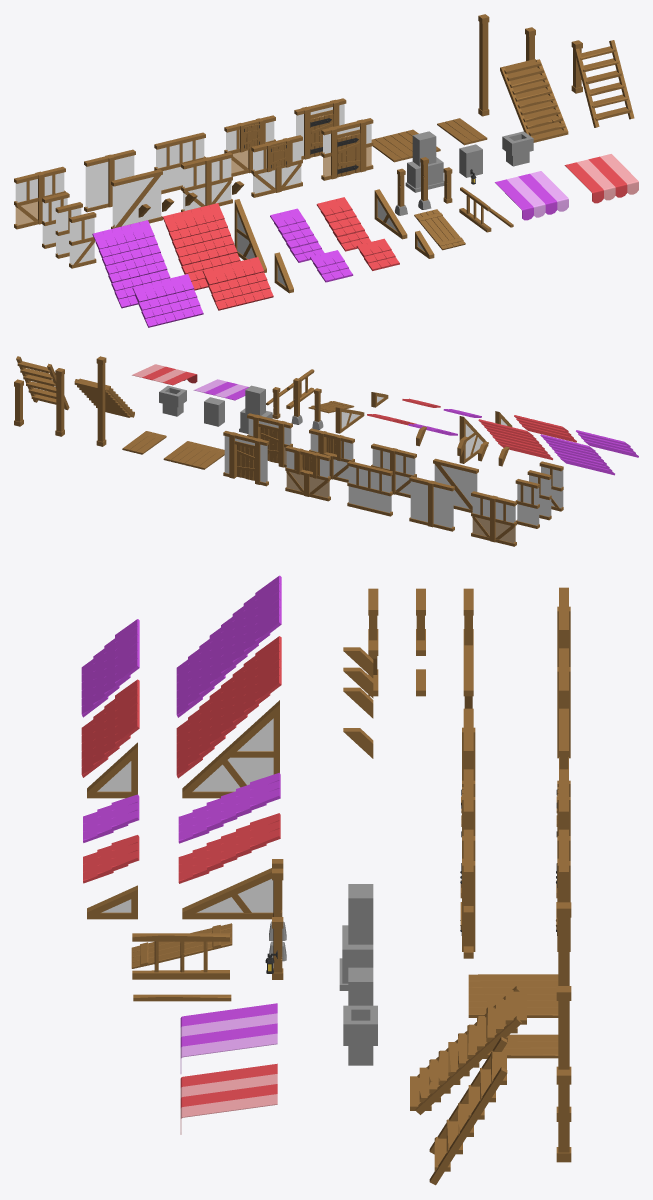
The model's file is Low Poly Medieval House Asset Pack 1.fbx.
The picture shows the model from 3 angles, top to bottom: view 1: azimuth 30°, elevation 25°; view 2: azimuth 150°, elevation 25°; view 3: azimuth 270°, elevation 25°; orthographic projection. The views are drawn at different scales.
Parts seen in each view (by area): view 1: Roof_Shingles_Large_Wide1, Roof_Shingles_Large_Wide, Stairs_1, Roof_Shingles_Small_Wide1, Roof_Shingles_Small_Wide, Wall_4, Wall_5, Stairs_2, Wall_Window_2, Cloth_Roof, Cloth_Roof1, Wall_1 (+24 smaller); view 2: Wall_1, Wall_3, Wall_2, Wall_Window_1, Wall_5, Wall_4, Wall_Door_1, Wall_Window_2, Stairs_2, Roof_Shingles_Large_Wide1, Roof_Shingles_Large_Wide, Wood_Floor_Wide (+23 smaller); view 3: Roof_Shingles_Large_Wide, Roof_Shingles_Large_Wide1, Stairs_1, Wall_Triangle_1, Cloth_Roof, Cloth_Roof1, Stairs_2, Roof_Shingles_Small_Wide, Roof_Shingles_Small_Wide1, Wood_Floor_Wide, Roof_Shingles_Large_Thin1, Roof_Shingles_Large_Thin (+23 smaller).
Boxes of the visible parts, x1=… form: Roof_Shingles_Large_Wide1: x1=92, y1=220, x2=170, y2=308; Roof_Shingles_Large_Wide: x1=162, y1=203, x2=240, y2=290; Stairs_1: x1=500, y1=59, x2=568, y2=142; Roof_Shingles_Small_Wide1: x1=132, y1=274, x2=203, y2=327; Roof_Shingles_Small_Wide: x1=202, y1=257, x2=273, y2=310; Wall_4: x1=111, y1=169, x2=162, y2=228; Wall_5: x1=181, y1=152, x2=232, y2=211; Stairs_2: x1=574, y1=40, x2=634, y2=127; Wall_Window_2: x1=251, y1=135, x2=302, y2=197; Cloth_Roof: x1=564, y1=154, x2=638, y2=203; Cloth_Roof1: x1=495, y1=171, x2=568, y2=220; Wall_1: x1=14, y1=166, x2=65, y2=229; Wall_1: x1=471, y1=491, x2=516, y2=546; Wall_3: x1=347, y1=461, x2=392, y2=516; Wall_2: x1=409, y1=476, x2=454, y2=531; Wall_Window_1: x1=285, y1=446, x2=330, y2=501; Wall_5: x1=371, y1=443, x2=416, y2=497; Wall_4: x1=433, y1=458, x2=478, y2=512; Wall_Door_1: x1=223, y1=431, x2=268, y2=486; Wall_Window_2: x1=309, y1=428, x2=354, y2=482; Stairs_2: x1=16, y1=356, x2=69, y2=410; Roof_Shingles_Large_Wide1: x1=540, y1=434, x2=614, y2=475; Roof_Shingles_Large_Wide: x1=478, y1=419, x2=552, y2=460; Wood_Floor_Wide: x1=163, y1=441, x2=224, y2=469; Roof_Shingles_Large_Wide: x1=176, y1=636, x2=281, y2=778; Roof_Shingles_Large_Wide1: x1=176, y1=575, x2=281, y2=717; Stairs_1: x1=410, y1=986, x2=526, y2=1114; Wall_Triangle_1: x1=182, y1=700, x2=279, y2=798; Cloth_Roof: x1=180, y1=1063, x2=277, y2=1134; Cloth_Roof1: x1=180, y1=1003, x2=277, y2=1073; Stairs_2: x1=429, y1=1037, x2=507, y2=1185; Roof_Shingles_Small_Wide: x1=81, y1=679, x2=139, y2=777; Roof_Shingles_Small_Wide1: x1=81, y1=619, x2=139, y2=717; Wood_Floor_Wide: x1=468, y1=974, x2=558, y2=1017; Roof_Shingles_Large_Thin1: x1=178, y1=772, x2=280, y2=843; Roof_Shingles_Large_Thin: x1=178, y1=813, x2=280, y2=883.
Size of the model in its own units: 25 by 4.45 by 10.26.
